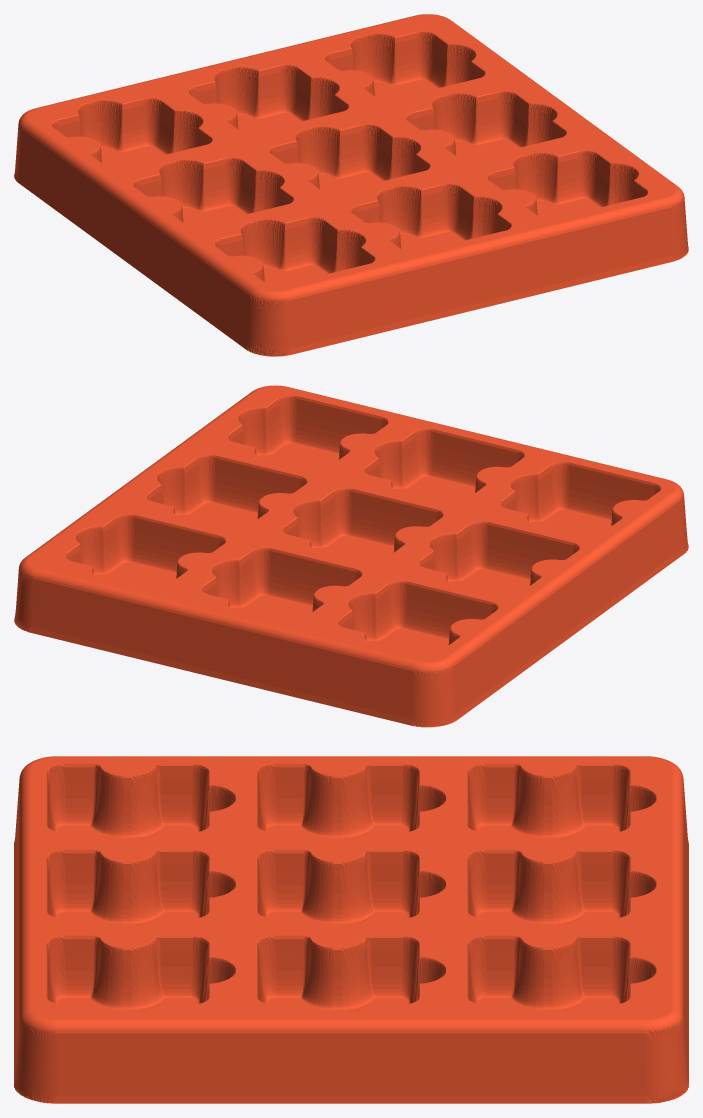
The model's file is mold.glb.
The picture shows the model from 3 angles, top to bottom: view 1: azimuth 30°, elevation 25°; view 2: azimuth 150°, elevation 25°; view 3: azimuth 270°, elevation 25°; orthographic projection. The views are drawn at different scales.
Parts seen in each view (by area): view 1: geometry_0; view 2: geometry_0; view 3: geometry_0.
Boxes of the visible parts, x1=… form: geometry_0: x1=14, y1=14, x2=688, y2=356; geometry_0: x1=14, y1=385, x2=688, y2=727; geometry_0: x1=14, y1=756, x2=688, y2=1103.
Bounding box in the file's own units: 0.1345 × 0.0175 × 0.1387.
